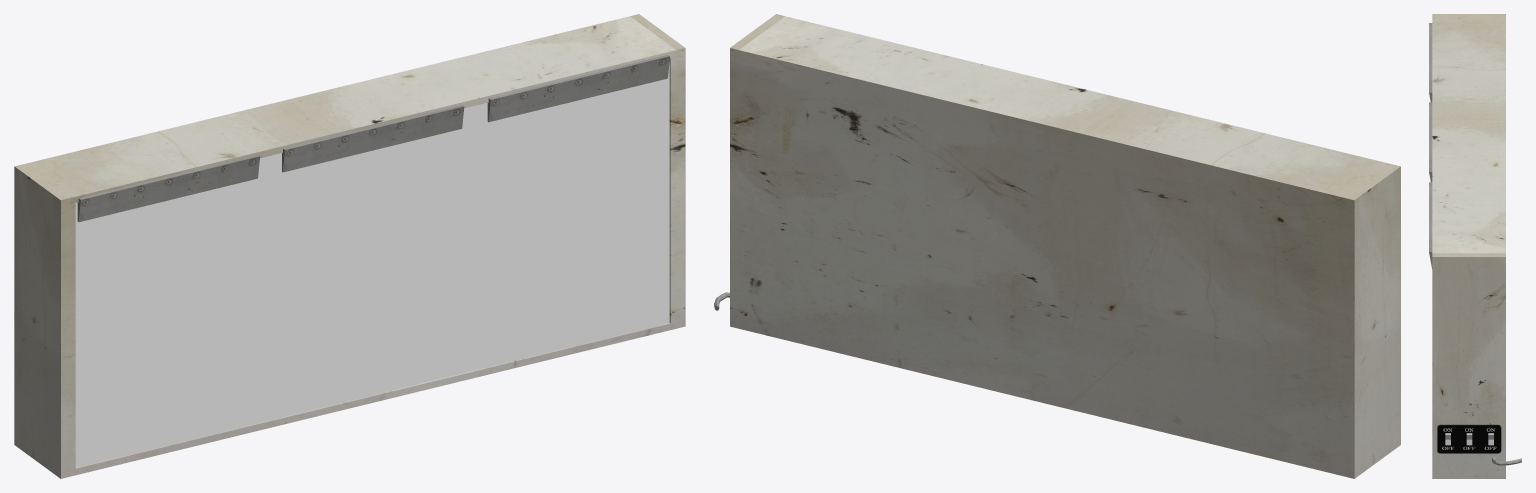
The model's file is Negatoscope.obj.
3 renders of one model, left to right at view 1: azimuth 30°, elevation 25°; view 2: azimuth 150°, elevation 25°; view 3: azimuth 270°, elevation 25°, orthographic. The views are drawn at different scales.
Parts seen in each view (by area): view 1: Cube, Cube.008, Cube.002_Cube.006, Cube.007_Cube.003; view 2: Cube; view 3: Cube, Cube.002_Cube.006, Cube.007_Cube.003, Cube.008, Cylinder.
Boxes of the visible parts, left/top/right/bottom form: Cube: left=14, top=14, right=685, bottom=478; Cube.008: left=77, top=155, right=259, bottom=222; Cube.002_Cube.006: left=487, top=54, right=669, bottom=122; Cube.007_Cube.003: left=282, top=105, right=464, bottom=172; Cube: left=730, top=14, right=1400, bottom=478; Cube: left=1432, top=14, right=1505, bottom=478; Cube.002_Cube.006: left=1429, top=182, right=1432, bottom=268; Cube.007_Cube.003: left=1429, top=102, right=1432, bottom=182; Cube.008: left=1429, top=23, right=1432, bottom=102; Cylinder: left=1492, top=457, right=1521, bottom=465.
Size of the model in its own units: 4.79 by 2 by 0.7591.
Materials: 5 (5 with a texture image).
